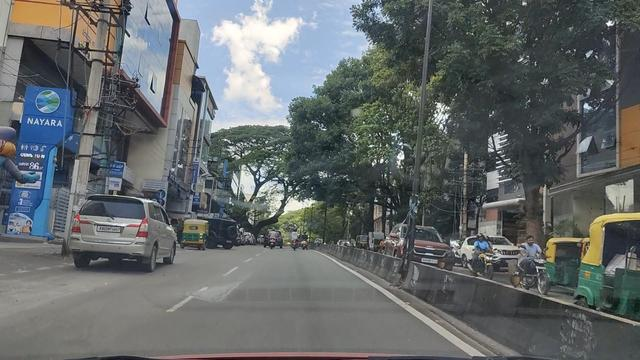LMV: (64, 184, 183, 278)
RoadDamages: (190, 281, 249, 312)
